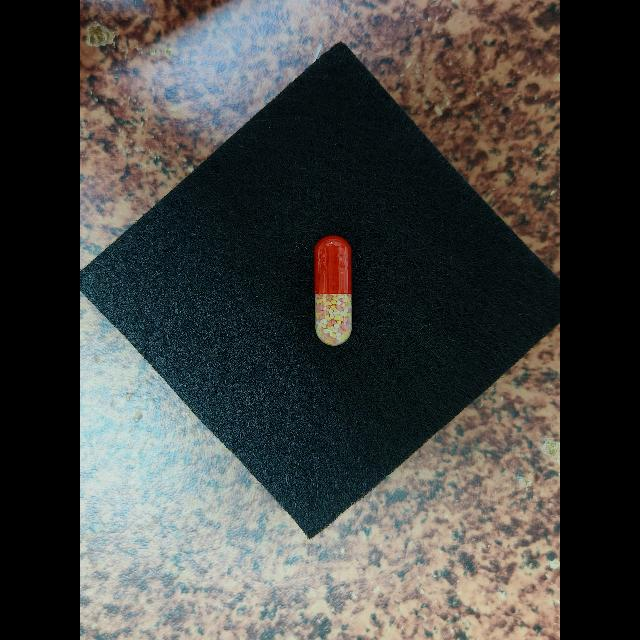Intact Capsule: (314, 235, 352, 346)
